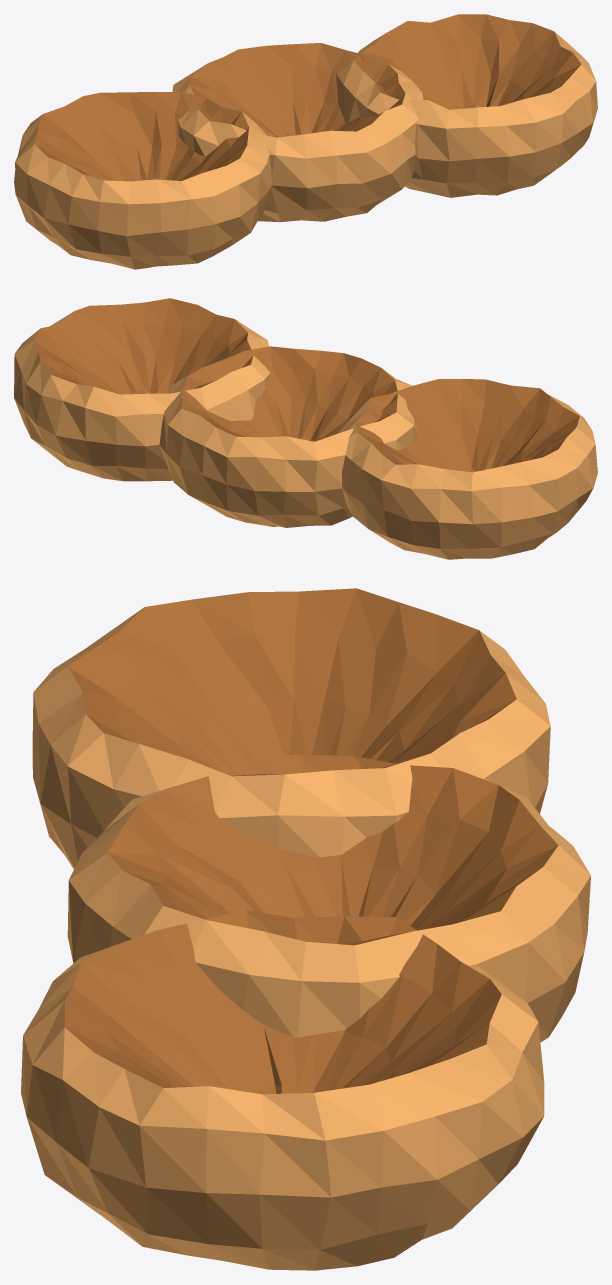
File: apricot.glb
The picture shows the model from 3 angles, top to bottom: view 1: azimuth 30°, elevation 25°; view 2: azimuth 150°, elevation 25°; view 3: azimuth 270°, elevation 25°; orthographic projection. The views are drawn at different scales.
Bounding box in the file's own units: 2.79 × 0.5661 × 1.26.
